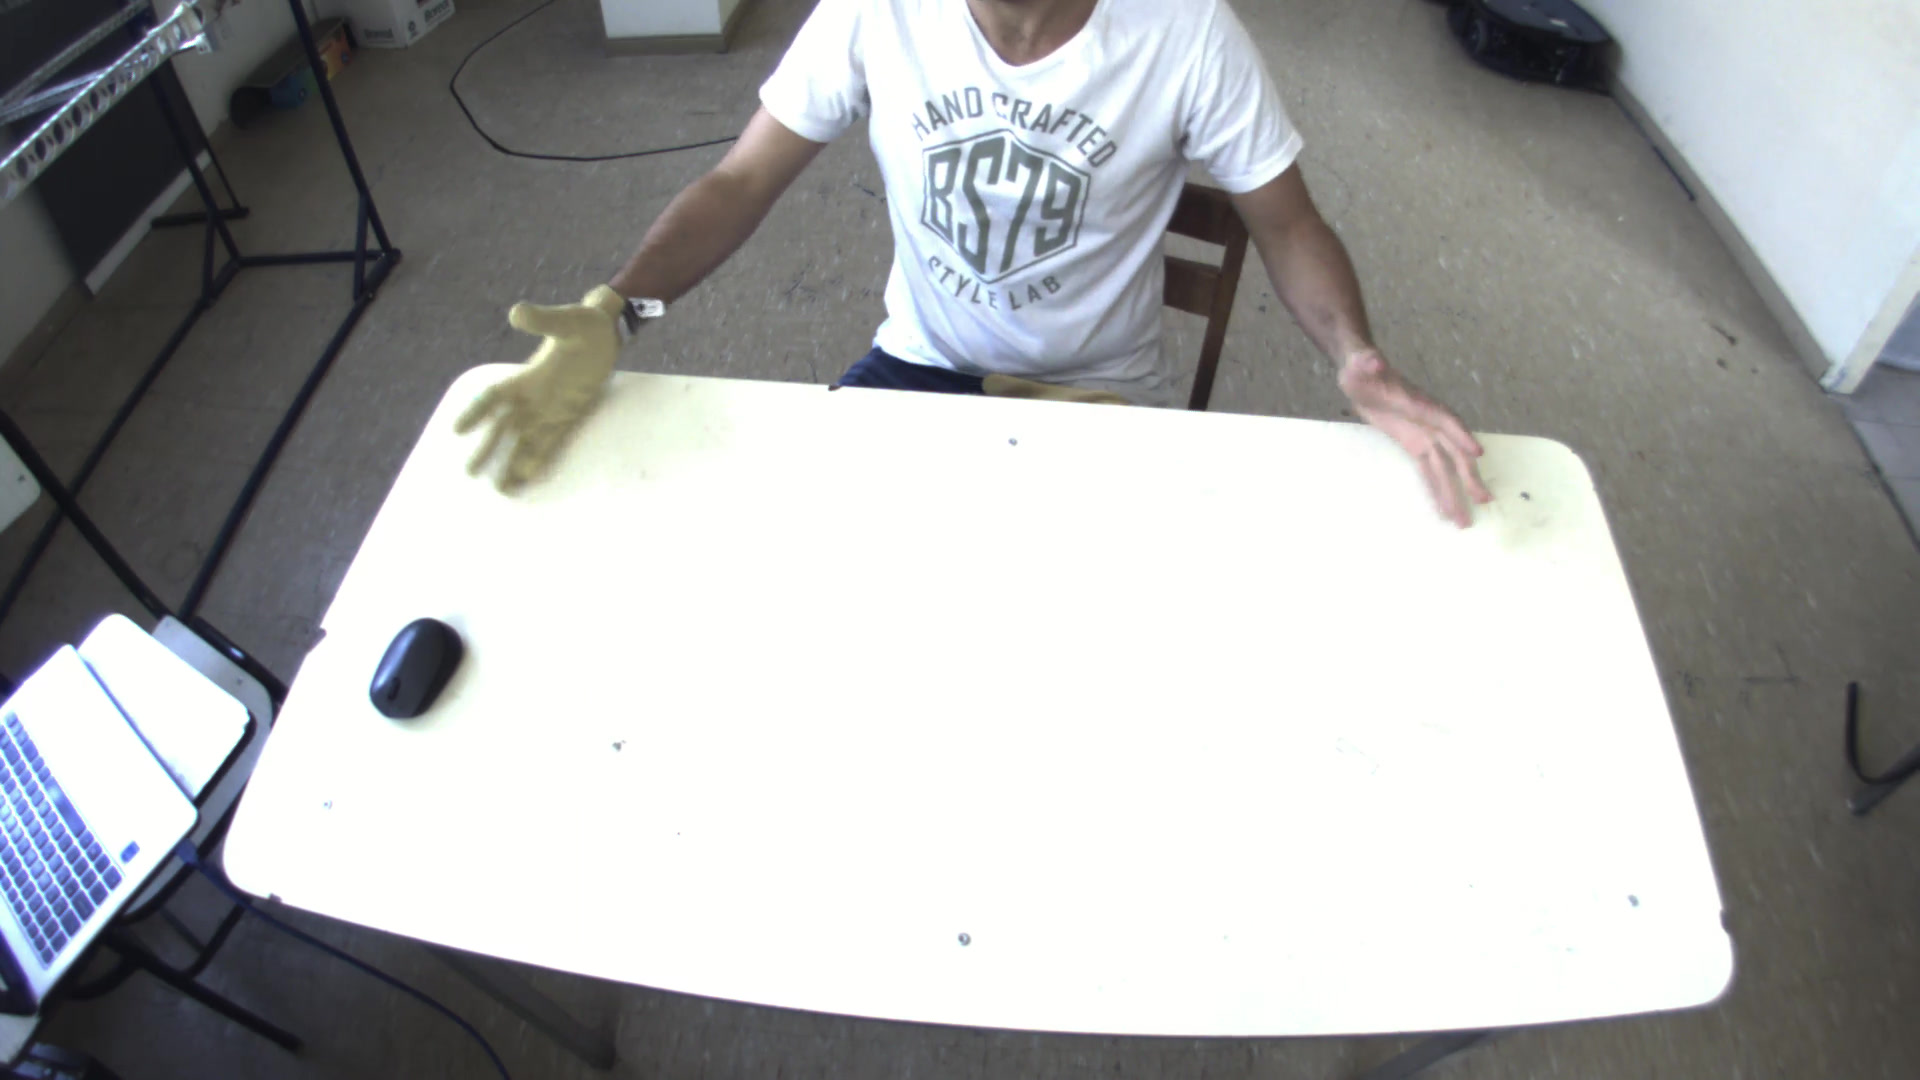hand: (431, 272, 637, 500), (1342, 348, 1511, 531)
